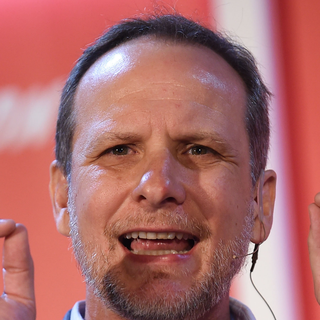eye: (95, 139, 141, 164), (174, 138, 220, 162)
